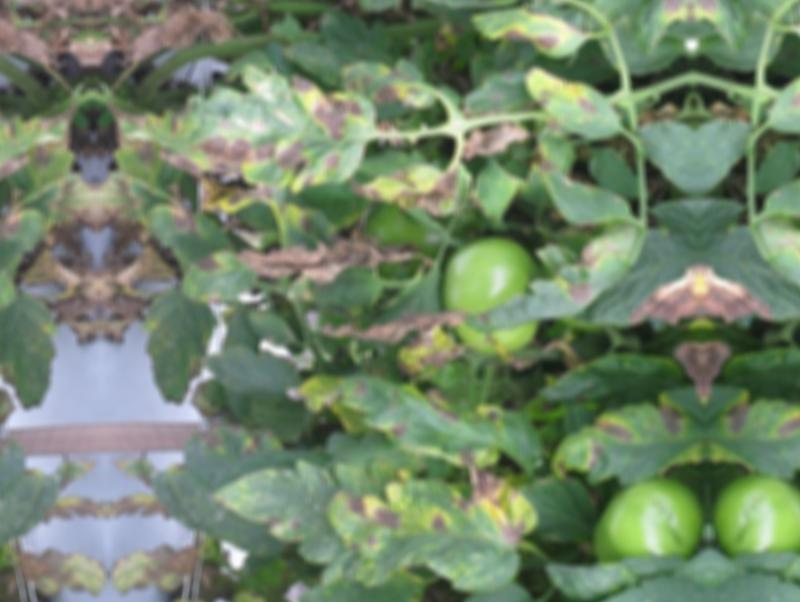Tomato Early blight leaf: (312, 468, 546, 593), (139, 81, 375, 199), (289, 383, 560, 471), (468, 225, 644, 338), (550, 385, 697, 489), (369, 144, 471, 229), (512, 78, 621, 143), (318, 60, 440, 114), (478, 2, 583, 62), (175, 247, 254, 310)
